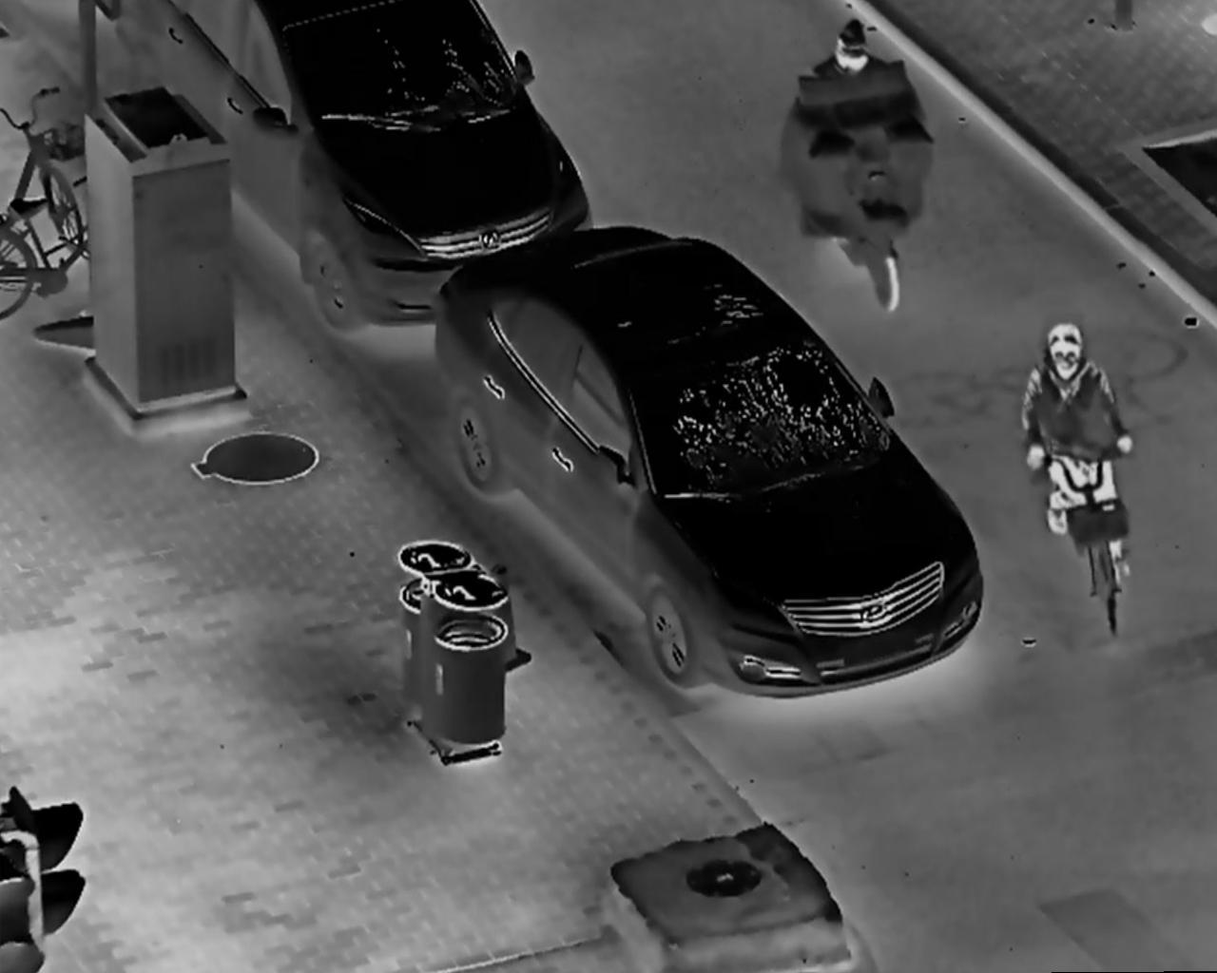person: (1019, 315, 1149, 587), (798, 15, 913, 239)
